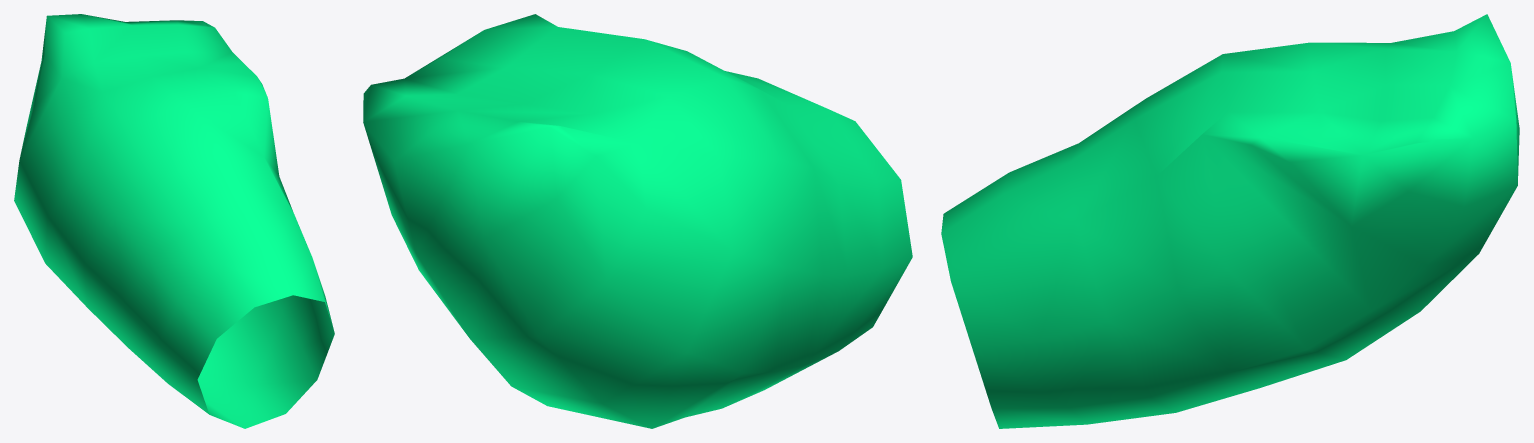
File: p_emissionmesh_lorenzo_hairgoop.fbx
3 views of the same model, side by side, from view 1: azimuth 30°, elevation 25°; view 2: azimuth 150°, elevation 25°; view 3: azimuth 270°, elevation 25° (orthographic). The views are drawn at different scales.
Visible parts, largest first — view 1: emissionmesh; view 2: emissionmesh; view 3: emissionmesh.
Boxes of the visible parts, bbox=[...] form: emissionmesh: bbox=[14, 14, 334, 428]; emissionmesh: bbox=[363, 14, 912, 428]; emissionmesh: bbox=[941, 14, 1519, 428].
Bounding box in the file's own units: 1.04 × 1.3 × 1.78.
